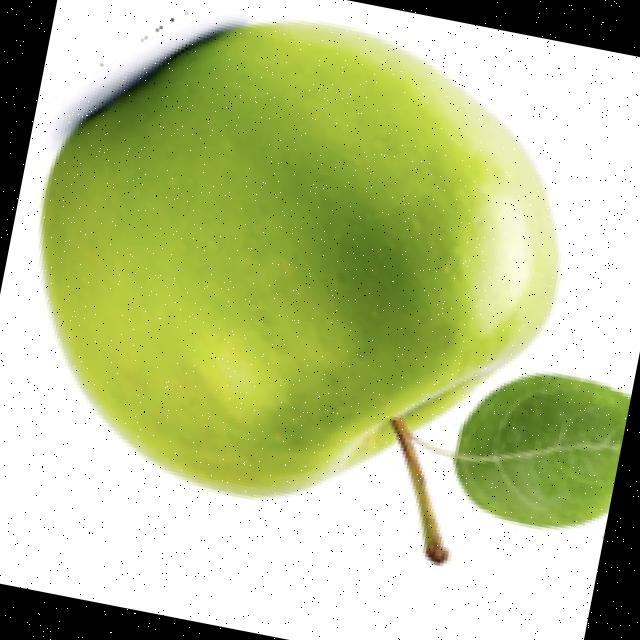apple: (36, 13, 632, 569)
